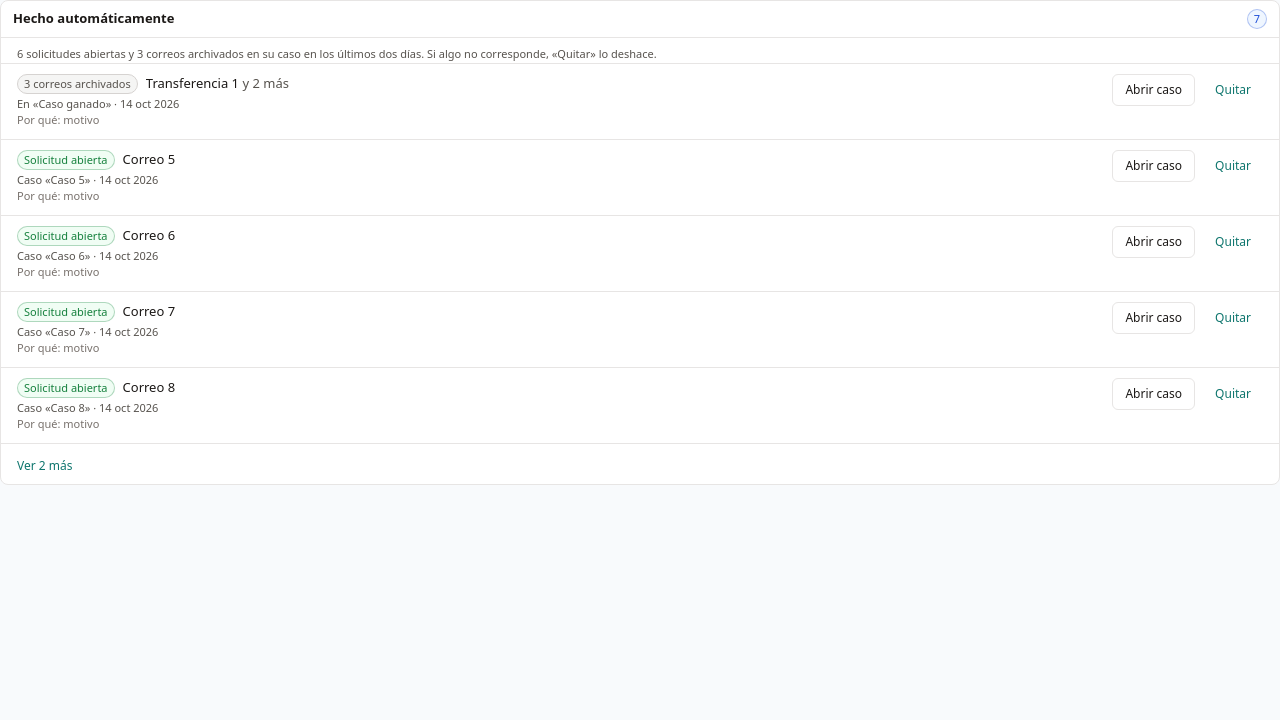
it: Hecho automáticamente, only what is news › leaves out a reply filed on its own thread, groups emails filed on one case, and shows five rows
This screenshot has width=1280, height=720.
Expected: the number of elements with test id "automatic-row" is 5, left=1, top=64, right=1279, bottom=140; left=1, top=140, right=1279, bottom=216; left=1, top=216, right=1279, bottom=292; left=1, top=292, right=1279, bottom=368; left=1, top=368, right=1279, bottom=444
Expected: the element with test id "automatic-row" shows "3 correos archivados", left=24, top=76, right=131, bottom=90
Click the button "Ver 2 más" at (45,466), box left=17, top=458, right=72, bottom=474
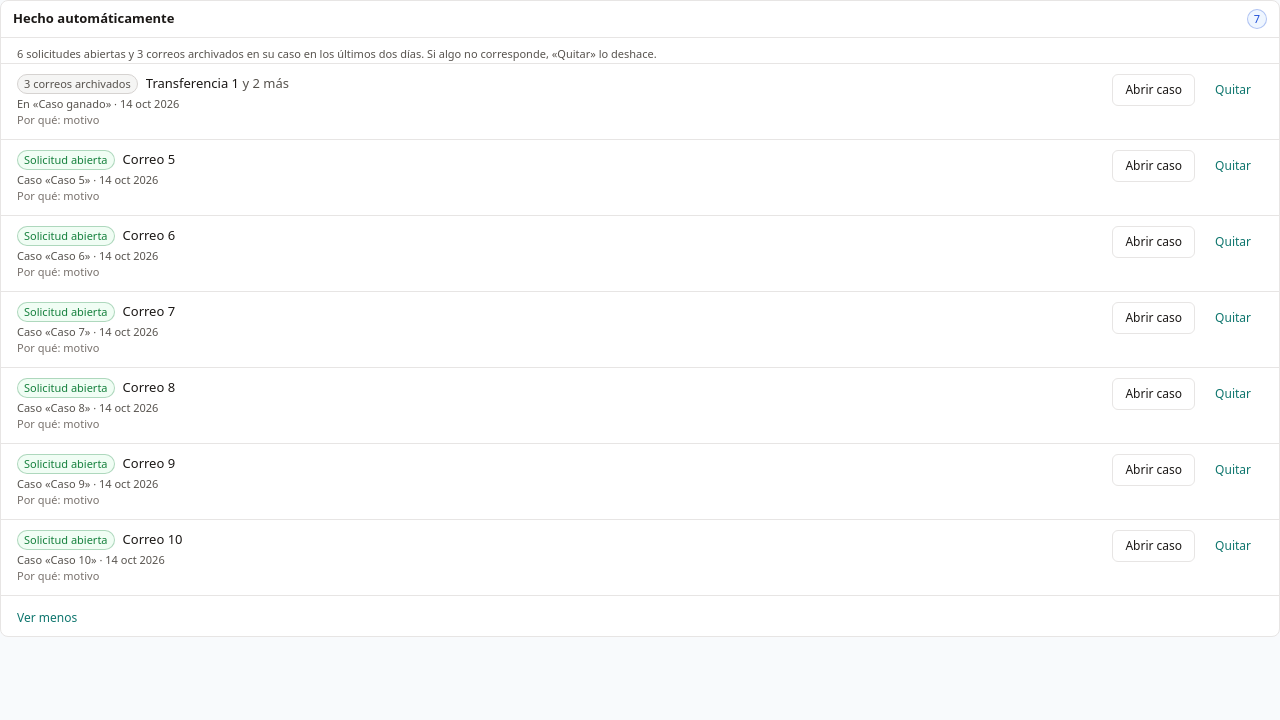
Expected: the number of elements with test id "automatic-row" is 7
